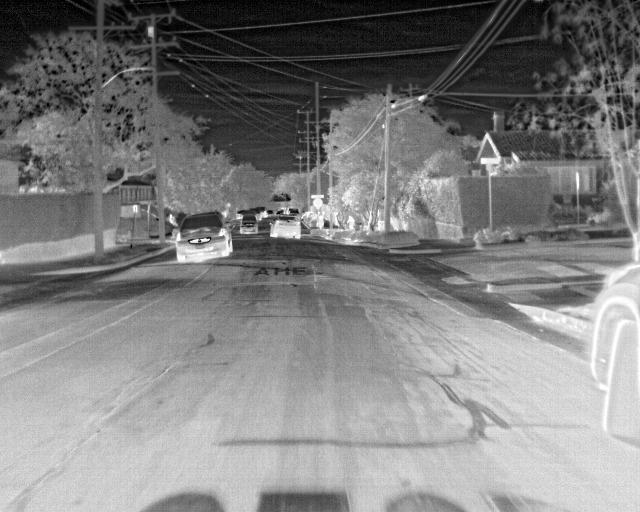car: (587, 262, 639, 444), (176, 210, 233, 264), (272, 217, 300, 238), (241, 213, 256, 231), (257, 205, 269, 219), (235, 208, 248, 220), (244, 206, 256, 217)
